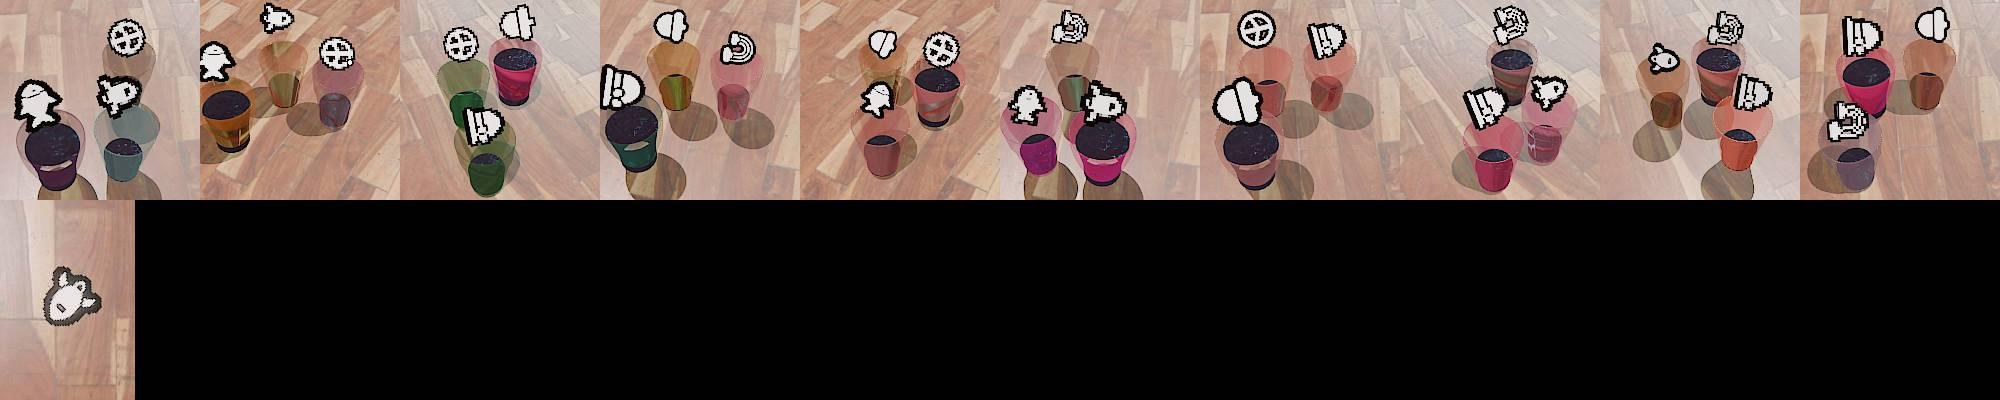icon: (41, 265, 103, 329), (13, 78, 65, 130), (1212, 75, 1264, 125), (599, 64, 647, 111), (94, 73, 143, 118), (1079, 79, 1128, 121), (462, 103, 506, 146), (1827, 99, 1872, 141), (1463, 85, 1506, 129), (1006, 84, 1048, 125), (1842, 17, 1883, 59), (107, 18, 148, 59), (1306, 20, 1348, 60), (1237, 9, 1277, 50), (198, 41, 236, 83), (921, 29, 960, 68), (1528, 74, 1569, 111), (1913, 6, 1952, 45), (858, 80, 897, 118), (1707, 10, 1745, 48), (497, 4, 537, 41), (443, 25, 480, 64), (718, 29, 758, 65), (1050, 9, 1088, 45), (1735, 75, 1773, 111), (319, 36, 356, 71), (653, 8, 689, 43), (259, 3, 295, 34), (1647, 42, 1681, 74), (1494, 6, 1528, 34), (869, 28, 899, 59)
